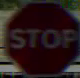Stop: (2, 14, 74, 62)
